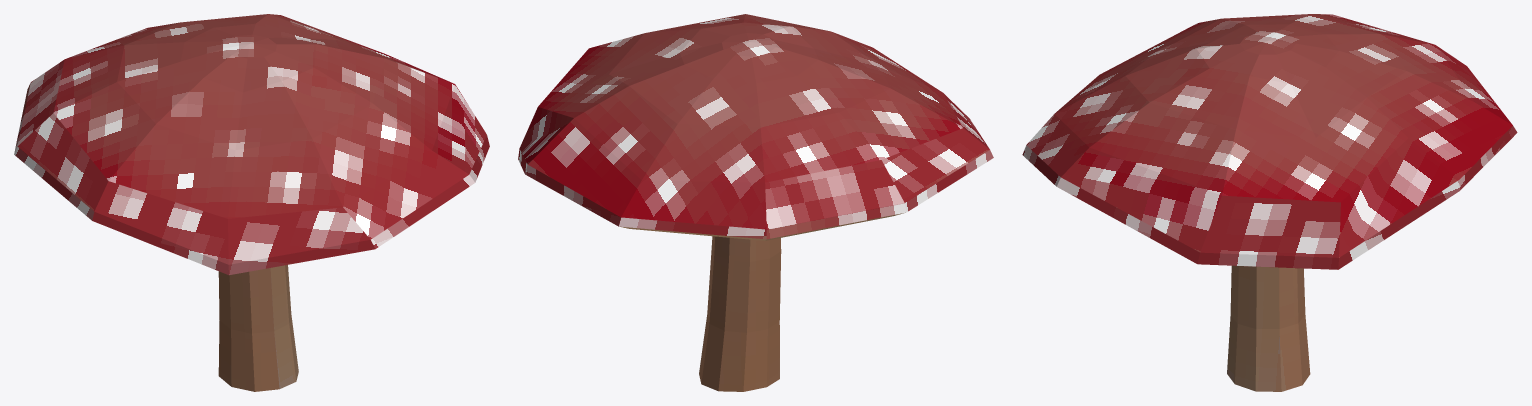
Rendered from mantar.fbx.
3 views of the same model, side by side, from view 1: azimuth 30°, elevation 25°; view 2: azimuth 150°, elevation 25°; view 3: azimuth 270°, elevation 25° (orthographic). The views are drawn at different scales.
Visible parts, largest first — view 1: Cylinder.005; view 2: Cylinder.005; view 3: Cylinder.005.
Part boxes in pixels (x1,y1,x2,y2): Cylinder.005: [14, 14, 489, 391]; Cylinder.005: [518, 14, 993, 391]; Cylinder.005: [1022, 14, 1517, 391].
Bounding box in the file's own units: 4.32 × 3.41 × 4.63.
1 material, 1 textured.
